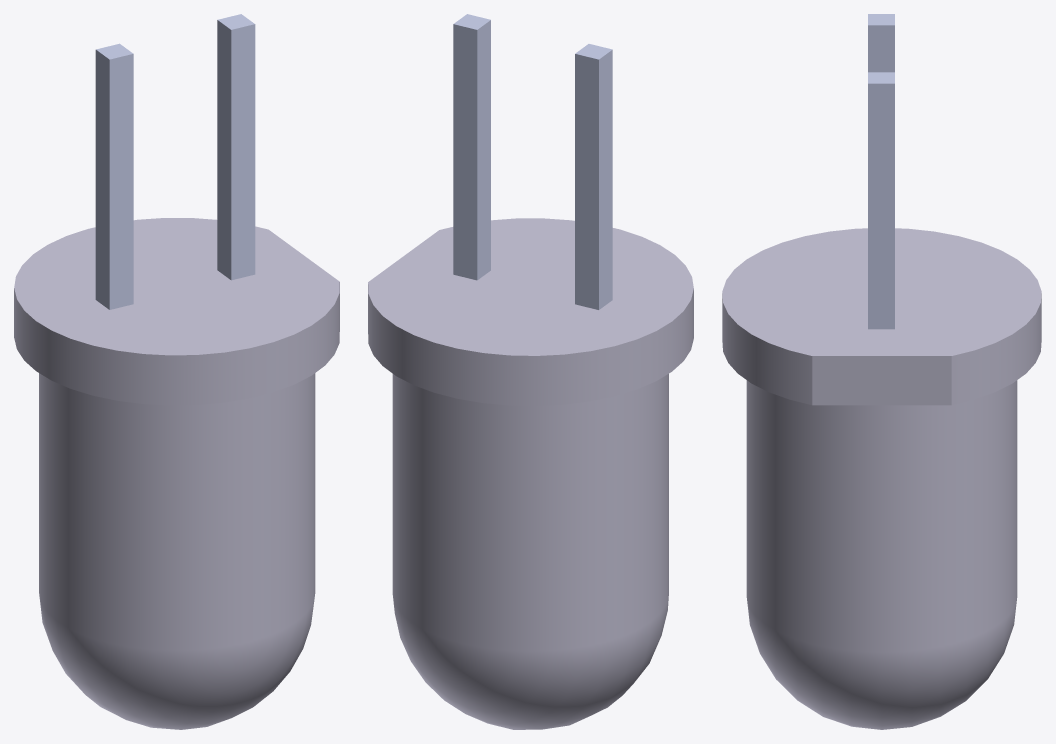
File: camera_led.gltf
3 renders of one model, left to right at view 1: azimuth 30°, elevation 25°; view 2: azimuth 150°, elevation 25°; view 3: azimuth 270°, elevation 25°, orthographic. The views are drawn at different scales.
Visible parts, largest first — view 1: camera_led; view 2: camera_led; view 3: camera_led.
Part boxes in pixels (bbox=[...]): camera_led: bbox=[14, 14, 339, 729]; camera_led: bbox=[368, 14, 693, 729]; camera_led: bbox=[722, 14, 1041, 729].
Size of the model in its own units: 0.0056 by 0.0136 by 0.00589.
